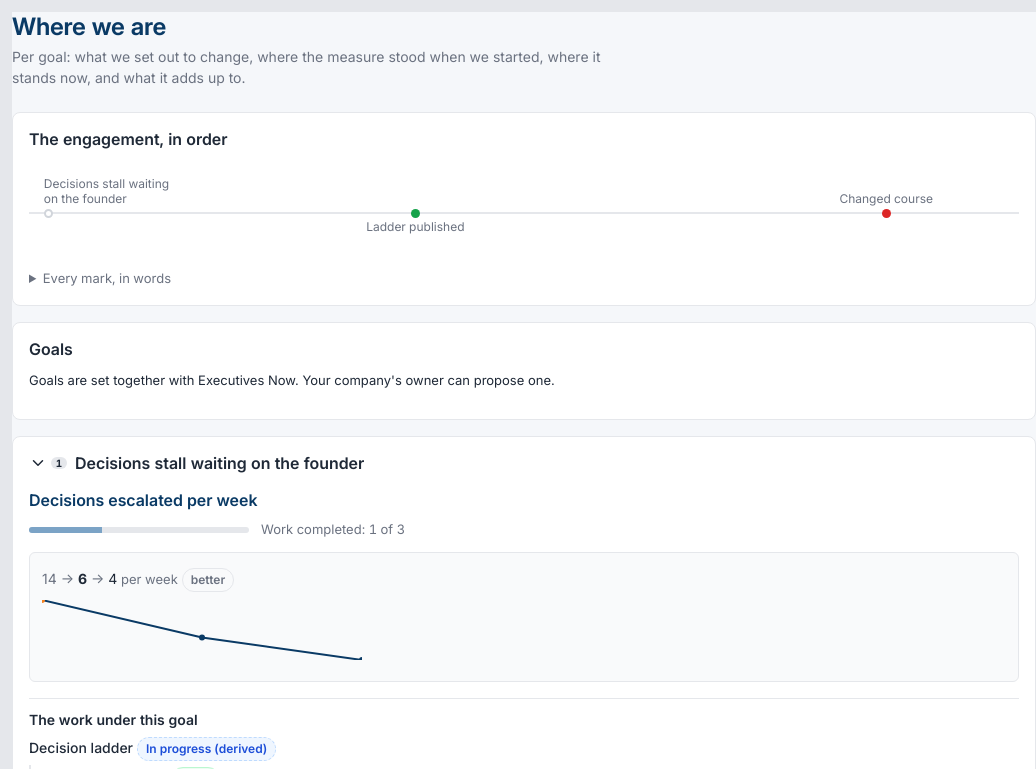
Test: the client value report › opens with the engagement timeline across every goal
This screenshot has width=1036, height=769.
Check: the number of elements with class "mark" is 3, box x1=44 y1=176 x2=169 y2=218; x1=366 y1=209 x2=464 y2=234; x1=839 y1=191 x2=933 y2=218
Check: the element titled "Ladder published" is shown, box x1=366 y1=209 x2=464 y2=234
// And the words underneath, for reading rather than scanning.
What coordinates should you click on to do the following:
click the heading "Every mark, in words"
I would click on:
 (107, 278)
Its box is x1=43 y1=270 x2=171 y2=286.
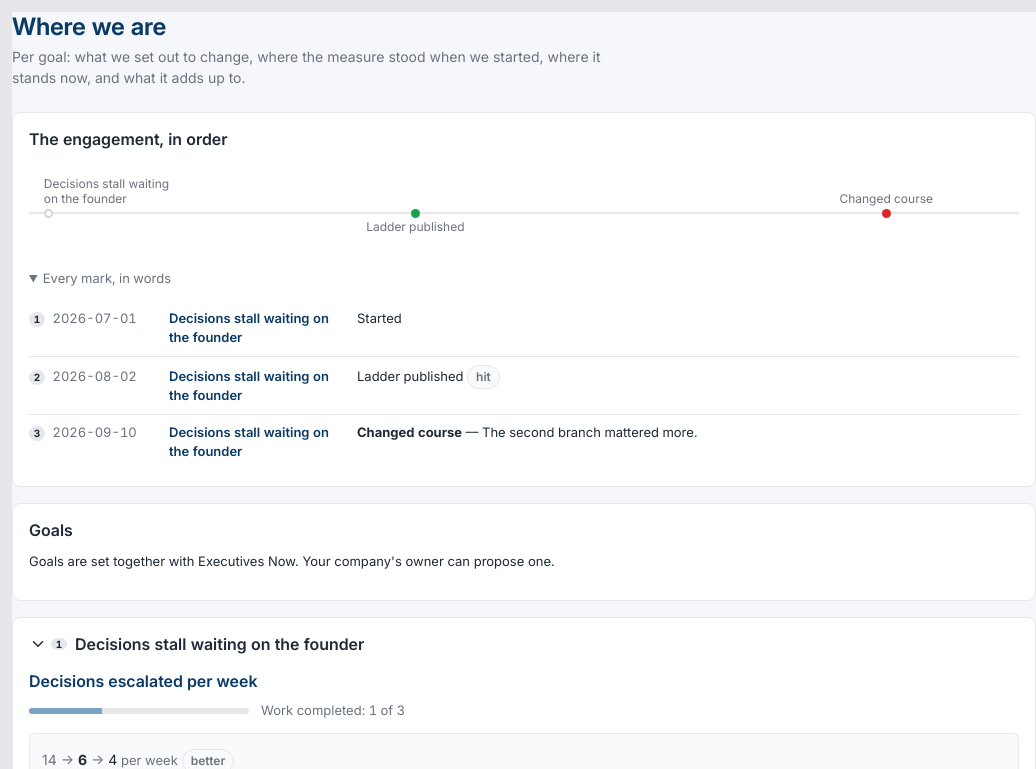
Check: the 1st text "Changed course" is shown, box x1=839 y1=192 x2=933 y2=209
Check: the text "Changed course — The second branch mattered more." is shown, box x1=357 y1=424 x2=697 y2=440
